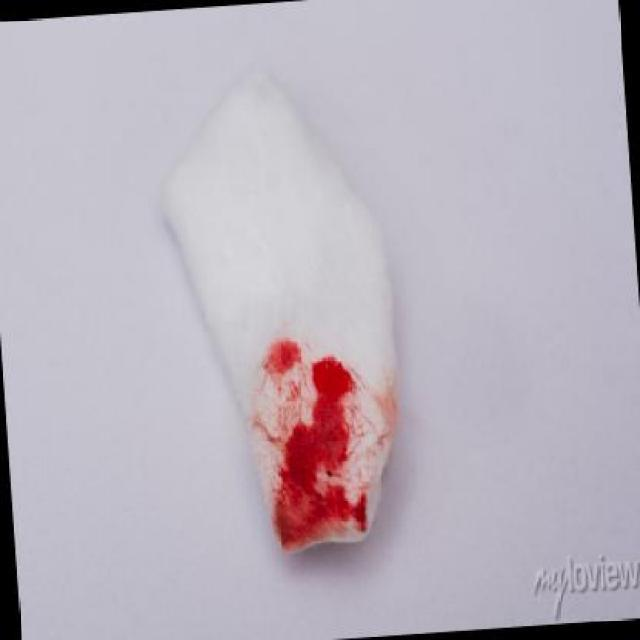wound: (247, 318, 398, 564)
